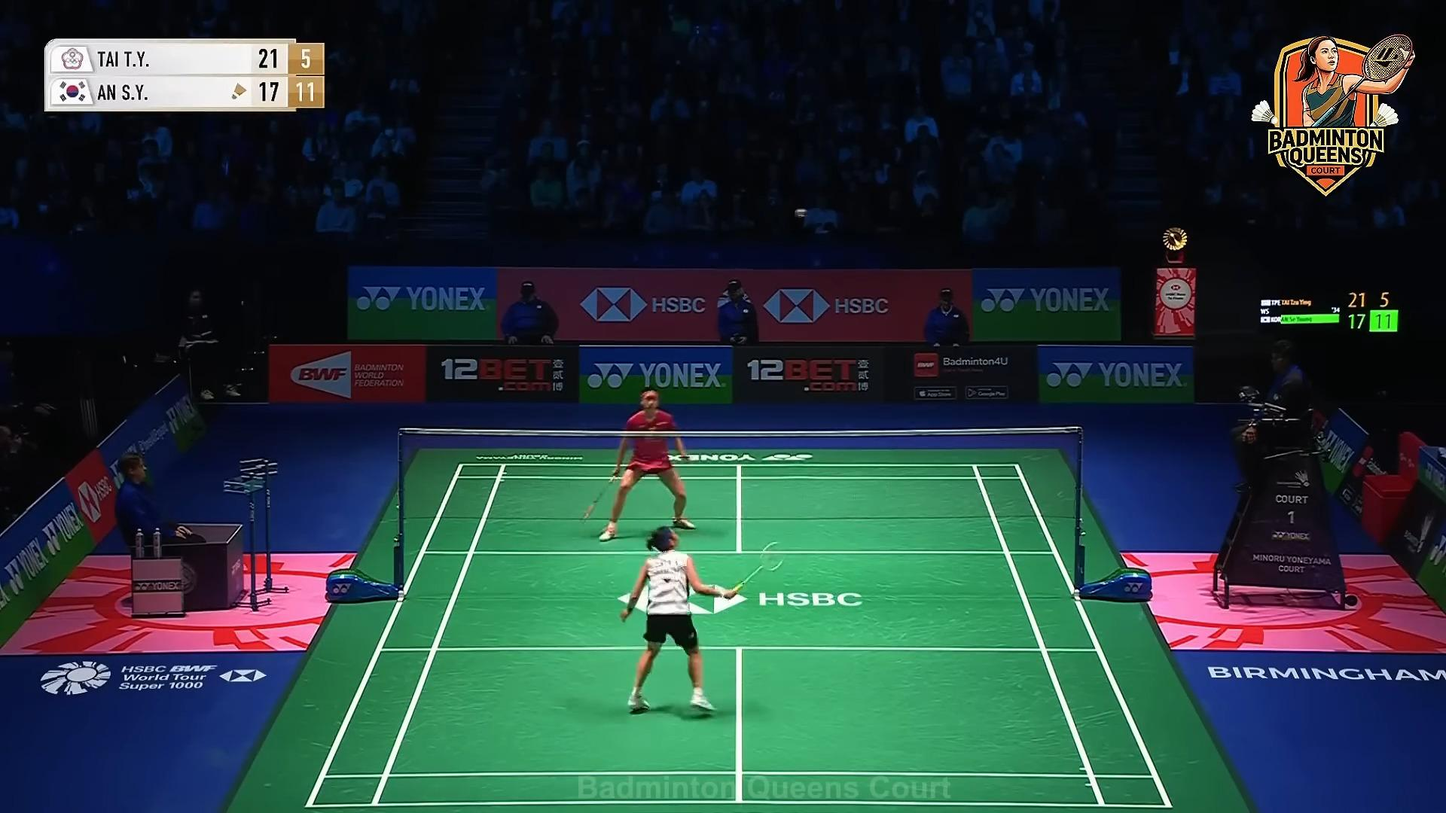player: (621, 527, 741, 715), (599, 385, 695, 543)
shuttlecock: (794, 206, 808, 218)
